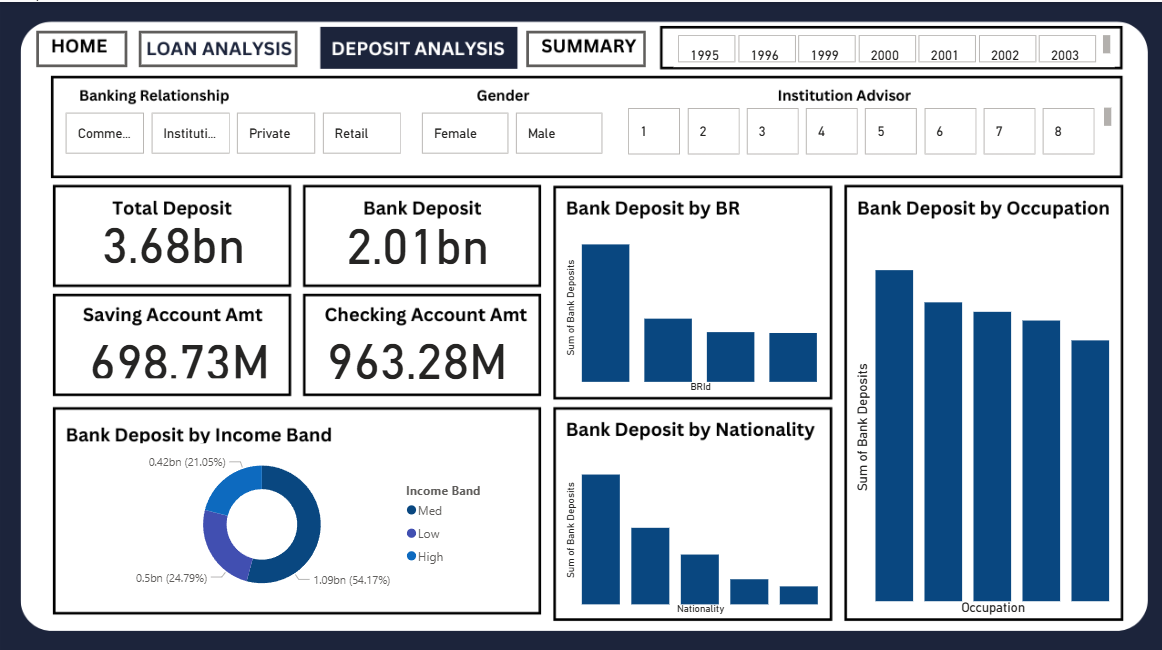

The dashboard page shown, as its layout file describes it:
{"tool":"powerbi","page":{"name":"Deposite Analysis","canvas":[1280,720],"ordinal":2},"visuals":[{"type":"actionButton","box":[40,31.4,100,40],"z":0},{"type":"actionButton","box":[152.9,31.4,174.3,40],"z":1},{"type":"actionButton","box":[577.1,31.4,131.4,40],"z":2},{"type":"card","fields":{"Values":["Banking (1).Total Deposit"]},"box":[90,218.6,200,85.7],"z":3},{"type":"card","fields":{"Values":["Sum(Banking (1).Bank Deposits)"]},"box":[365.7,228.6,184.3,64.3],"z":4},{"type":"card","fields":{"Values":["Sum(Banking (1).Saving Accounts)"]},"box":[90,360,212.9,58.6],"z":5},{"type":"card","fields":{"Values":["Sum(Banking (1).Checking Accounts)"]},"box":[351.4,342.9,212.9,90],"z":6},{"type":"advancedSlicerVisual","fields":{"Values":["Banking (1).Year of Joining"]},"box":[740,31.4,484.3,40],"z":7},{"type":"advancedSlicerVisual","fields":{"Values":["Banking (1).BRId"]},"box":[67.1,117.1,378.6,55.7],"z":8},{"type":"advancedSlicerVisual","fields":{"Values":["Banking (1).GenderId"]},"box":[458.6,117.1,312.9,55.7],"z":9},{"type":"advancedSlicerVisual","fields":{"Values":["Banking (1).IAId"]},"box":[684.3,111.4,540,61.4],"z":10},{"type":"donutChart","fields":{"Y":["Sum(Banking (1).Bank Deposits)"],"Category":["Banking (1).Income Band"]},"box":[124.3,484.3,425.7,178.6],"z":11},{"type":"clusteredColumnChart","fields":{"Y":["Sum(Banking (1).Bank Deposits)"],"Category":["Banking (1).BRId"]},"box":[615.7,240,288.6,192.9],"z":12},{"type":"clusteredColumnChart","fields":{"Y":["Sum(Banking (1).Bank Deposits)"],"Category":["Banking (1).Nationality"]},"box":[615.7,484.3,288.6,192.9],"z":13},{"type":"clusteredColumnChart","fields":{"Y":["Sum(Banking (1).Bank Deposits)"],"Category":["Banking (1).Occupation"]},"box":[934.3,261.4,290,415.7],"z":14}]}

Visuals, with their boxes in screenshot pixels (x1, y1, x2, y2), scaled from the page's 1280x720 canvas onto the 1162x650 screenshot:
actionButton: (left=36, top=28, right=127, bottom=64)
actionButton: (left=139, top=28, right=297, bottom=64)
actionButton: (left=524, top=28, right=643, bottom=64)
card - Banking (1).Total Deposit: (left=82, top=197, right=263, bottom=275)
card - Sum(Banking (1).Bank Deposits): (left=332, top=206, right=499, bottom=264)
card - Sum(Banking (1).Saving Accounts): (left=82, top=325, right=275, bottom=378)
card - Sum(Banking (1).Checking Accounts): (left=319, top=310, right=512, bottom=391)
advancedSlicerVisual - Banking (1).Year of Joining: (left=672, top=28, right=1111, bottom=64)
advancedSlicerVisual - Banking (1).BRId: (left=61, top=106, right=405, bottom=156)
advancedSlicerVisual - Banking (1).GenderId: (left=416, top=106, right=700, bottom=156)
advancedSlicerVisual - Banking (1).IAId: (left=621, top=101, right=1111, bottom=156)
donutChart - Sum(Banking (1).Bank Deposits) x Banking (1).Income Band: (left=113, top=437, right=499, bottom=598)
clusteredColumnChart - Sum(Banking (1).Bank Deposits) x Banking (1).BRId: (left=559, top=217, right=821, bottom=391)
clusteredColumnChart - Sum(Banking (1).Bank Deposits) x Banking (1).Nationality: (left=559, top=437, right=821, bottom=611)
clusteredColumnChart - Sum(Banking (1).Bank Deposits) x Banking (1).Occupation: (left=848, top=236, right=1111, bottom=611)
